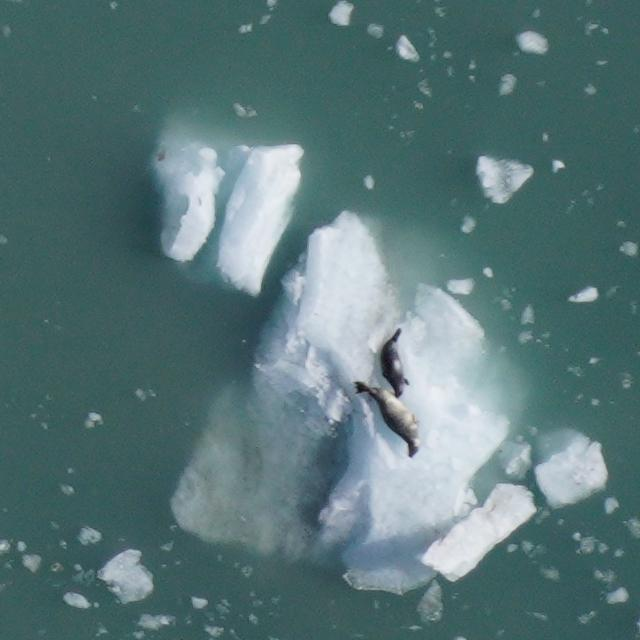seal: (348, 377, 425, 464), (376, 325, 417, 400)
